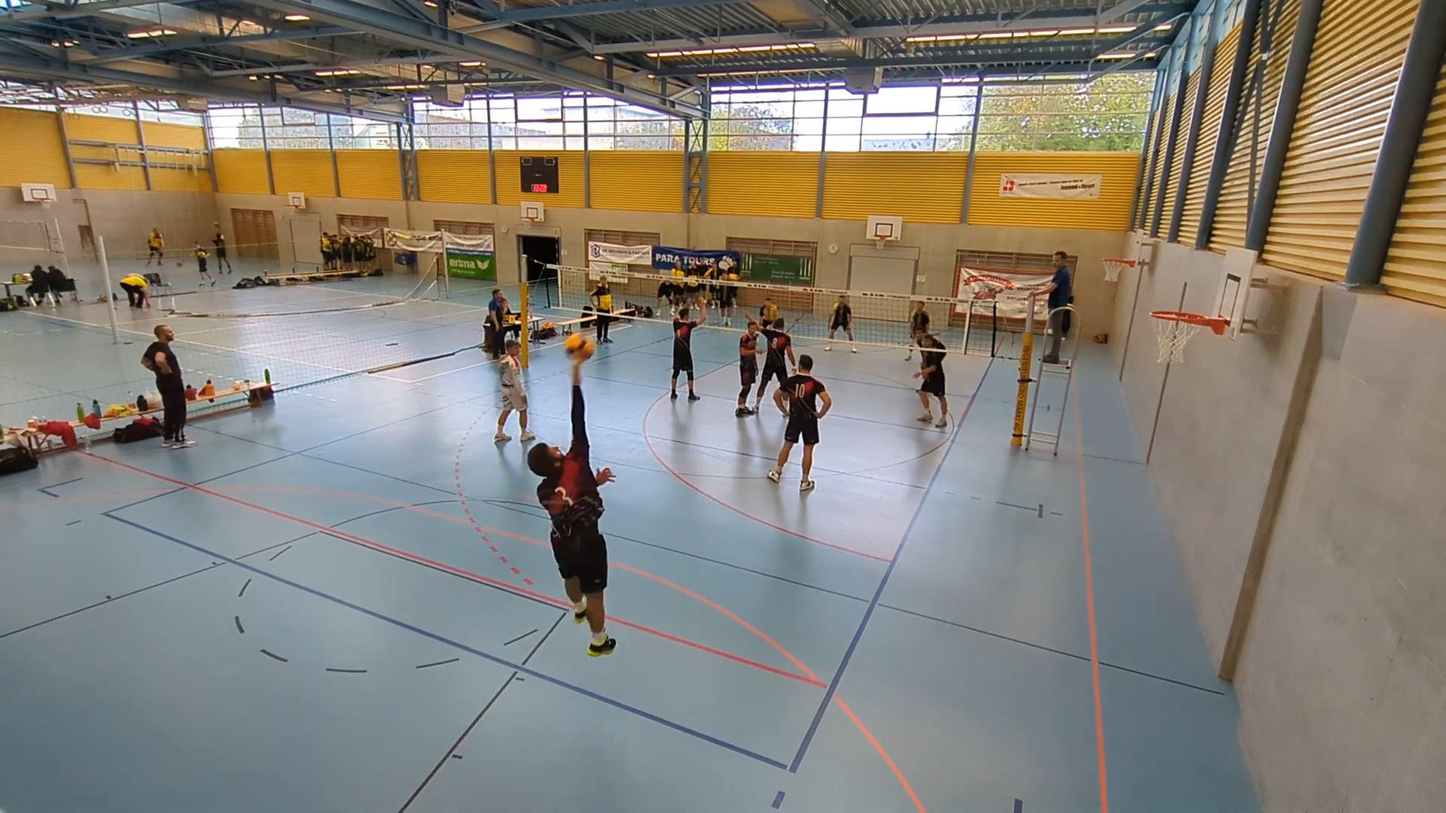Player: (767, 354, 831, 491), (494, 339, 535, 442), (753, 318, 795, 413), (670, 306, 706, 400), (914, 332, 948, 427), (735, 319, 761, 416), (825, 294, 856, 352), (908, 300, 929, 359), (717, 274, 737, 327), (758, 294, 778, 327)
Serve: (529, 359, 621, 659)
ball: (562, 336, 594, 358)
